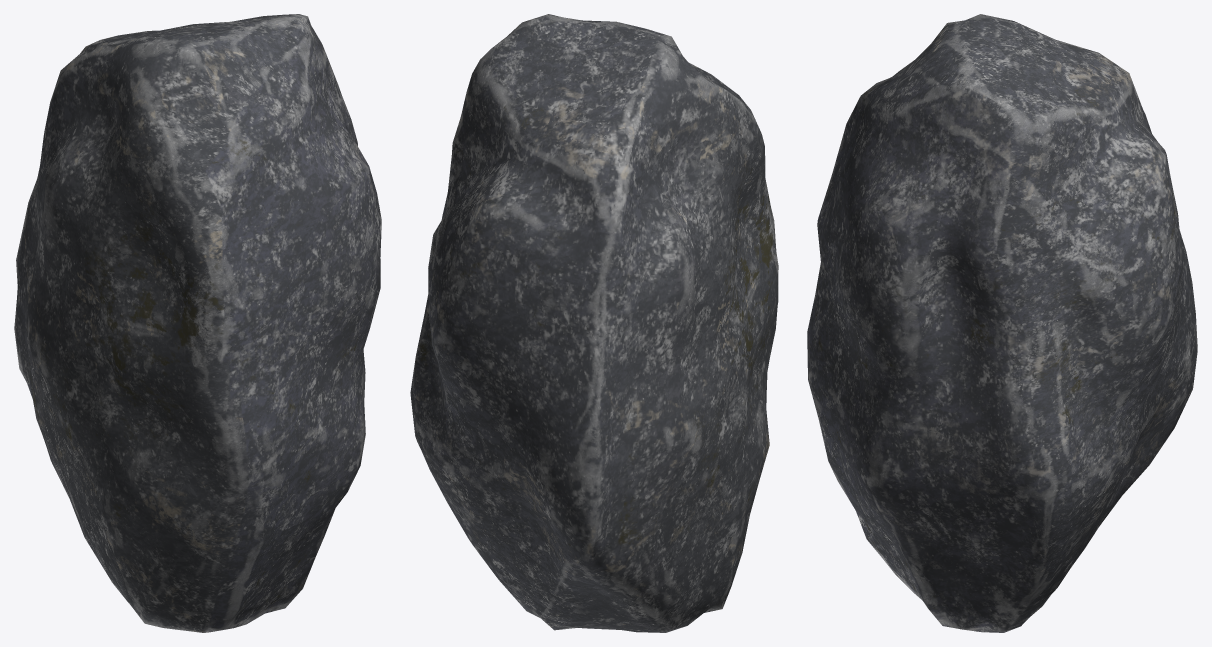
The model's file is SM_Rock01c.fbx.
3 renders of one model, left to right at view 1: azimuth 30°, elevation 25°; view 2: azimuth 150°, elevation 25°; view 3: azimuth 270°, elevation 25°, orthographic. The views are drawn at different scales.
Parts seen in each view (by area): view 1: SM_Rock01c; view 2: SM_Rock01c; view 3: SM_Rock01c.
Part boxes in pixels (x1=…): SM_Rock01c: x1=14, y1=14, x2=381, y2=632; SM_Rock01c: x1=410, y1=14, x2=778, y2=632; SM_Rock01c: x1=807, y1=14, x2=1197, y2=632.
Bounding box in the file's own units: 109 × 128 × 206.
1 material, 1 textured.
